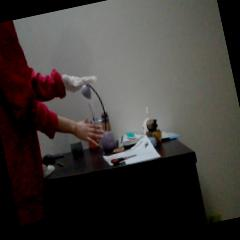gloved: (61, 71, 98, 96)
not-gloved: (72, 114, 107, 151)
